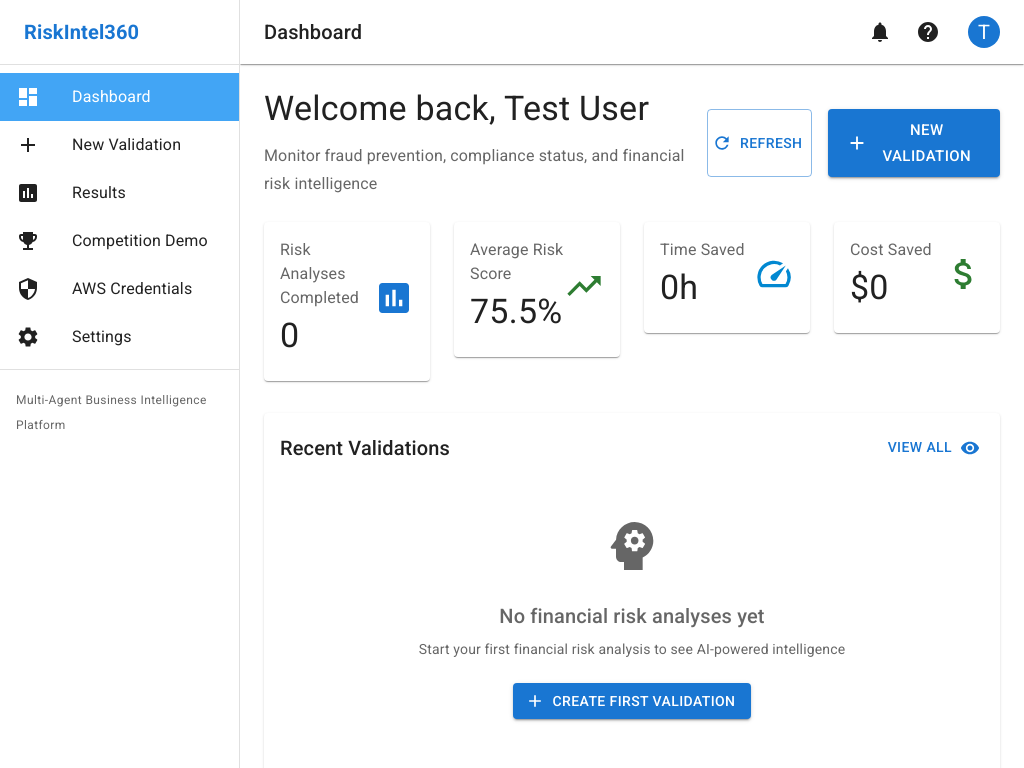
Test case: Dashboard Navigation Integration Tests › should navigate to validation wizard
This screenshot has width=1024, height=768.
Expected: the heading "Welcome back, Test User" is shown, [264,88,707,130]
Click the button "New Validation" below "RiskIntel360" at (99, 145), box [16,133,181,157]
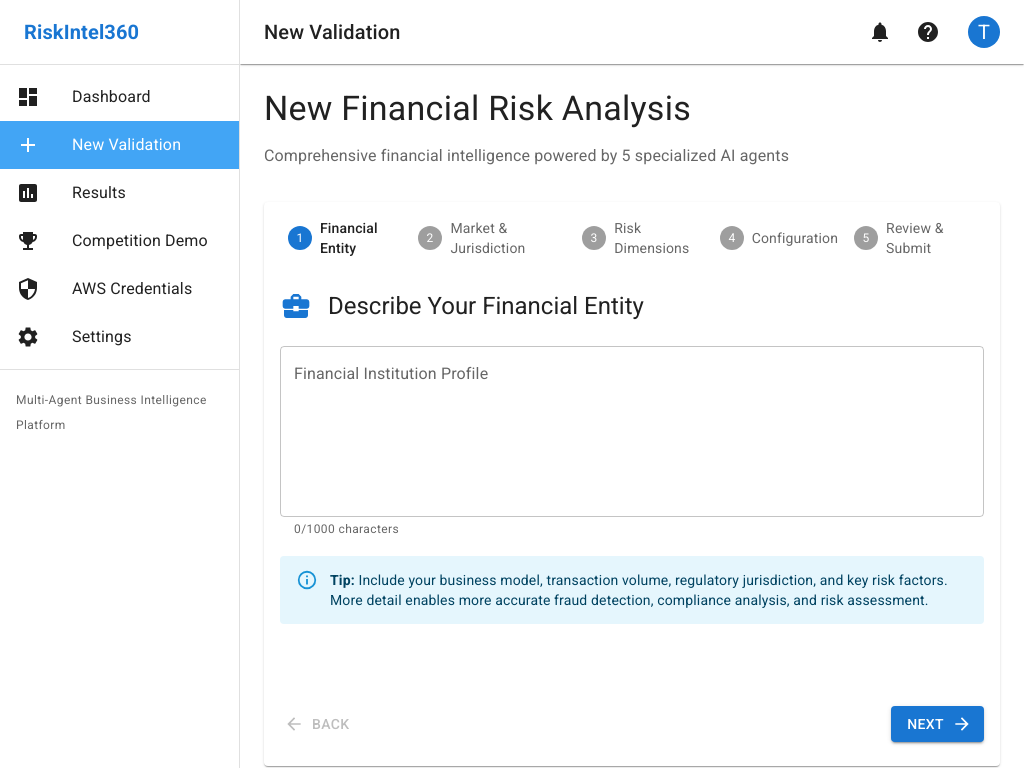
Result: the 1st text "New Validation" is shown at [264,20,400,44]
